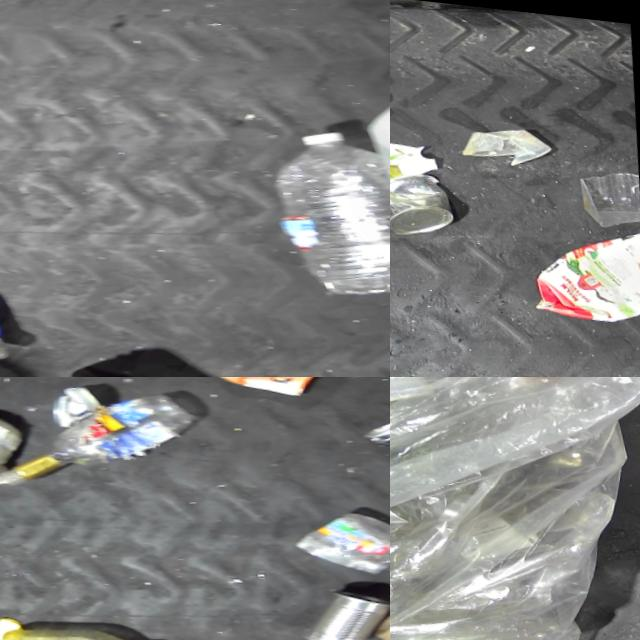can: (302, 567, 390, 640), (390, 153, 458, 237), (47, 377, 110, 429), (362, 394, 390, 457)
milk_jug: (358, 58, 390, 217)
non_white_jug: (520, 204, 640, 319)
plastic_bottle: (260, 103, 390, 297), (4, 377, 207, 494), (509, 0, 629, 19)
